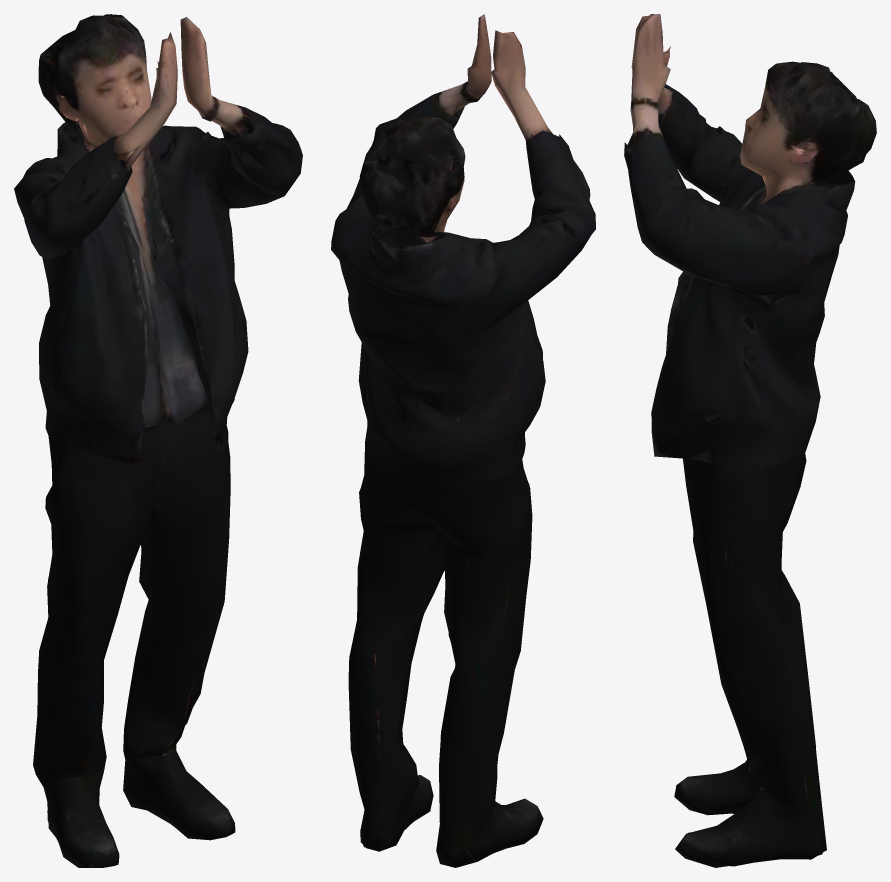
File: fan-side-s1.lo.glb
3 renders of one model, left to right at view 1: azimuth 30°, elevation 25°; view 2: azimuth 150°, elevation 25°; view 3: azimuth 270°, elevation 25°, orthographic. The views are drawn at different scales.
Parts seen in each view (by area): view 1: geometry_0; view 2: geometry_0; view 3: geometry_0.
Boxes of the visible parts, box(x1,y1,x2,y2) form: geometry_0: box(14, 14, 302, 867); geometry_0: box(331, 14, 595, 867); geometry_0: box(624, 14, 876, 867).
Size of the model in its own units: 0.3058 by 0.9971 by 0.2778.
Materials: 1 (1 with a texture image).
